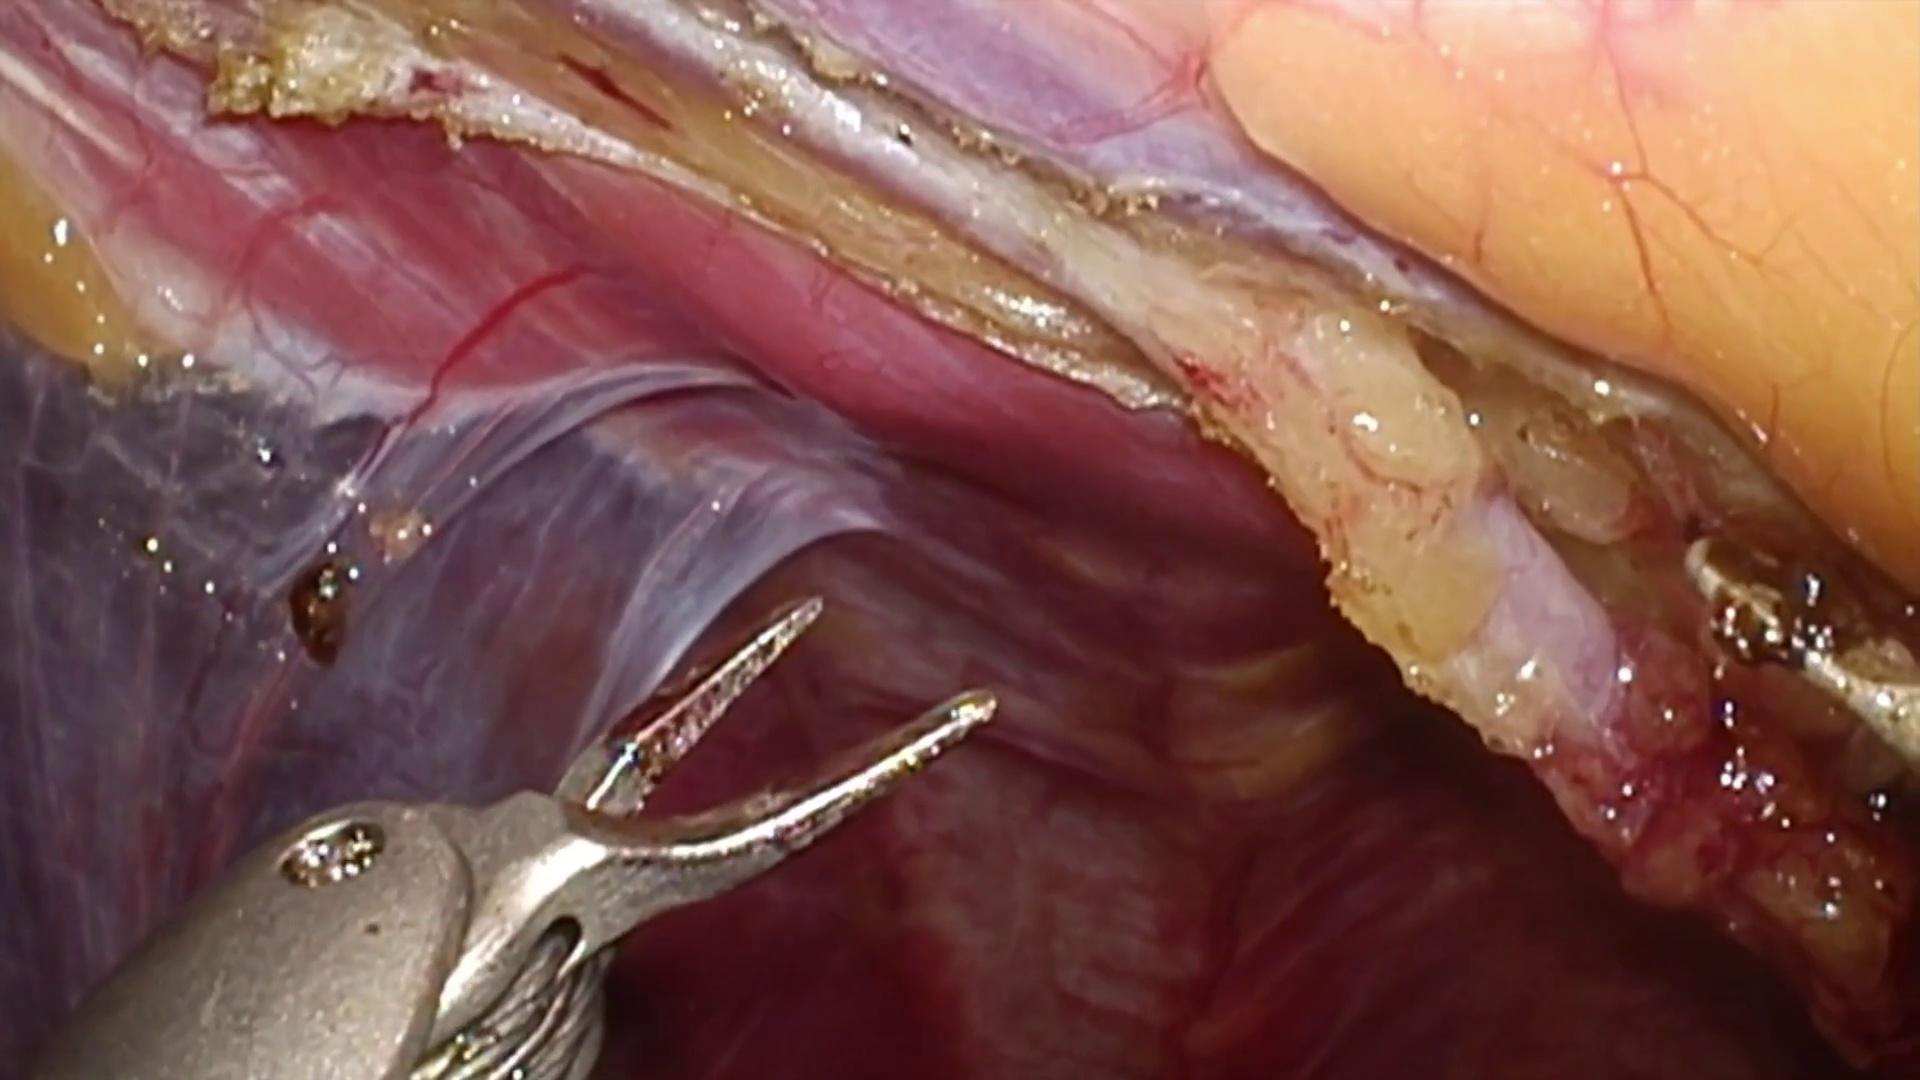Cautery_Spatula: (1683, 530, 1920, 783)
Debakey: (419, 588, 1005, 956)
